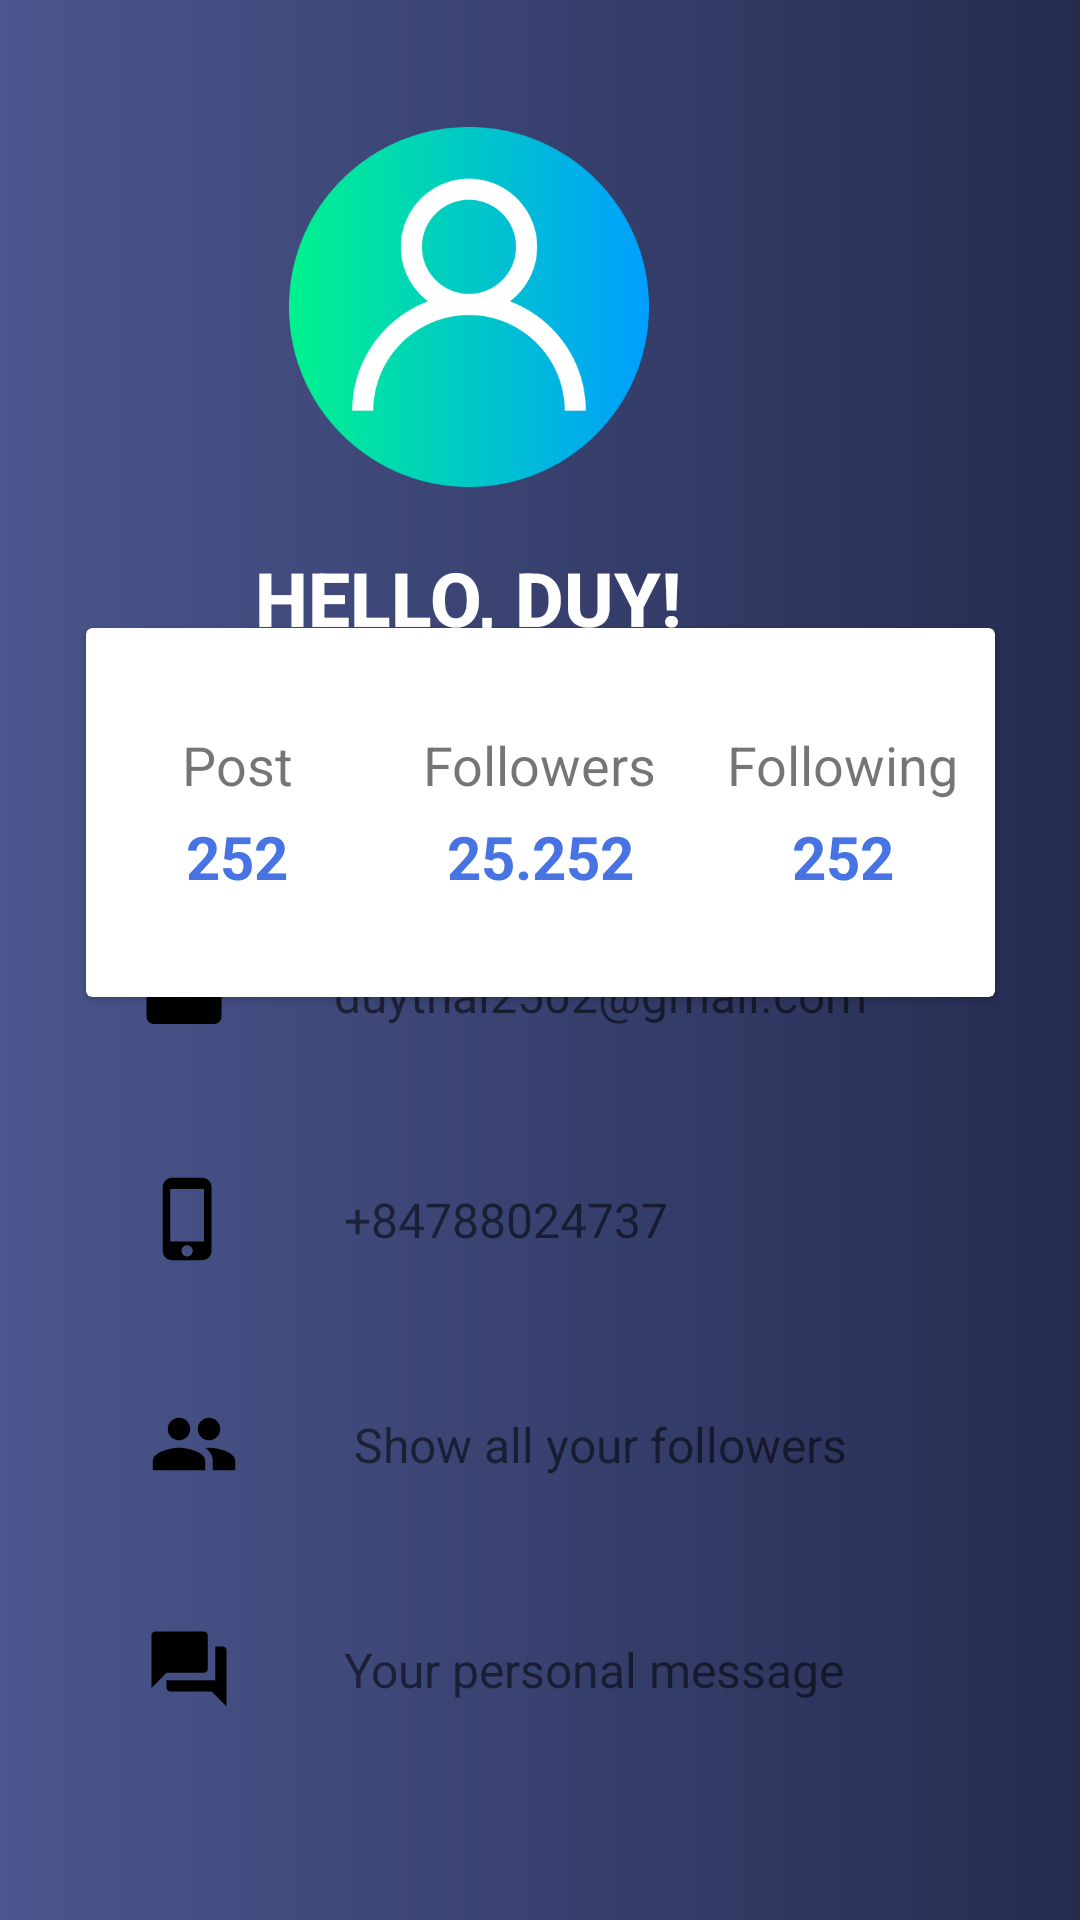

Icons on this 1080px×1920px Android screen, each with the point to tap as [x,y]:
forum: [189,1668]
phone iphone: [187,1219]
user: [469,307]
